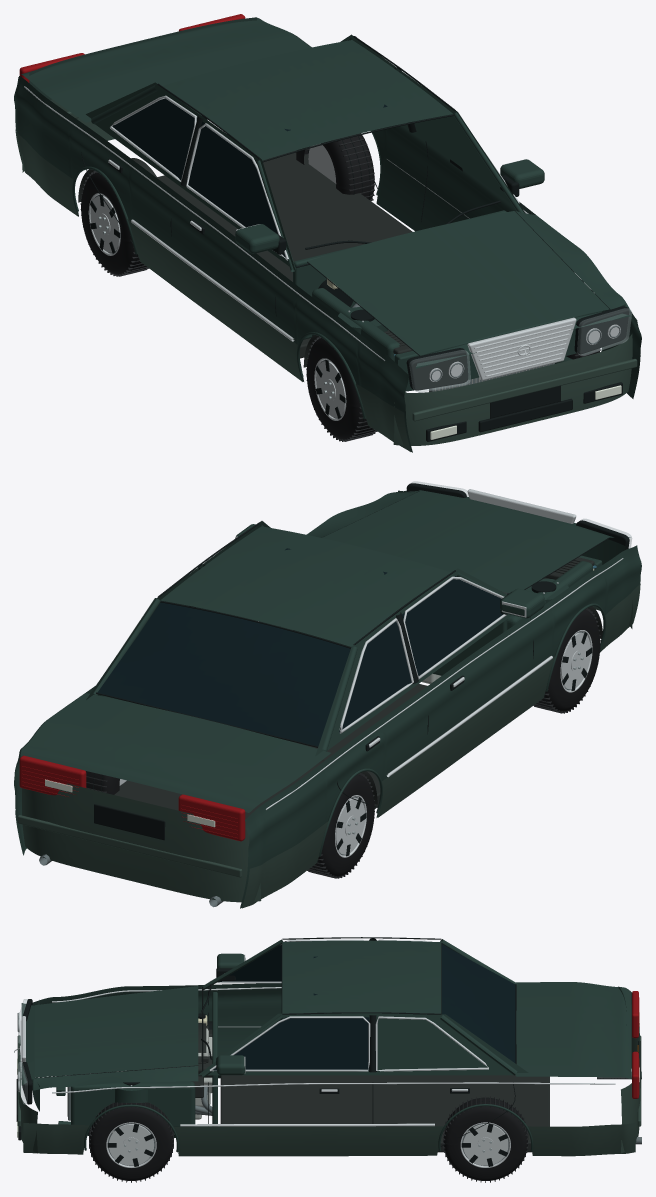
Rendered from lexus-ls-ucf20.glb.
3 views of the same model, one above another, from view 1: azimuth 30°, elevation 25°; view 2: azimuth 150°, elevation 25°; view 3: azimuth 270°, elevation 25° (orthographic). The views are drawn at different scales.
Parts seen in each view (by area): view 1: hood, body-side--1, roof, trunk, floor, body-side-1, lower-cladding--1, front-bumper, front-door-glass--1, rear-door-glass--1, front-grille-frame, cabin-side-1 (+24 smaller); view 2: rear-glass, body-side--1, trunk, roof, hood, rear-bumper, lower-cladding--1, front-door-glass--1, rear-door-glass--1, cabin-side--1, floor, wheel-1--1-tyre (+21 smaller); view 3: floor, lower-cladding-1, hood, roof, trunk, cabin-side-1, front-door-glass-1, rear-glass, body-side--1, wheel-1-1-tyre, wheel-0-1-tyre, inner-fender-1 (+22 smaller).
Part boxes in pixels (box(x1,y1,x2,y2)): hood: box(308, 211, 609, 355); body-side--1: box(14, 76, 412, 452); roof: box(162, 40, 452, 160); trunk: box(21, 17, 310, 122); floor: box(157, 150, 412, 358); body-side-1: box(259, 18, 641, 398); lower-cladding--1: box(15, 128, 410, 451); front-bumper: box(393, 334, 632, 445); front-door-glass--1: box(188, 121, 285, 257); rear-door-glass--1: box(112, 98, 197, 180); front-grille-frame: box(467, 317, 576, 380); cabin-side-1: box(340, 34, 524, 213); rear-glass: box(97, 602, 350, 746); body-side--1: box(240, 545, 641, 908); trunk: box(20, 693, 330, 812); roof: box(160, 526, 450, 646); hood: box(322, 491, 609, 593); rear-bumper: box(22, 783, 261, 902); lower-cladding--1: box(242, 584, 640, 908); front-door-glass--1: box(402, 576, 503, 675); rear-door-glass--1: box(339, 618, 411, 732); cabin-side--1: box(315, 568, 511, 756); floor: box(114, 684, 427, 818); wheel-1--1-tyre: box(309, 774, 374, 876); floor: box(220, 1075, 549, 1152); lower-cladding-1: box(23, 1122, 635, 1156); hood: box(34, 986, 198, 1077); roof: box(282, 940, 441, 1013); trunk: box(516, 982, 631, 1079); cabin-side-1: box(198, 1013, 528, 1075); front-door-glass-1: box(213, 1017, 369, 1070); rear-glass: box(442, 944, 515, 1062); body-side--1: box(32, 983, 631, 1056); wheel-1-1-tyre: box(443, 1097, 527, 1180); wheel-0-1-tyre: box(89, 1102, 173, 1180); inner-fender-1: box(71, 1081, 195, 1126).
Bounding box in the file's own units: 2.15 × 1.44 × 5.05.
